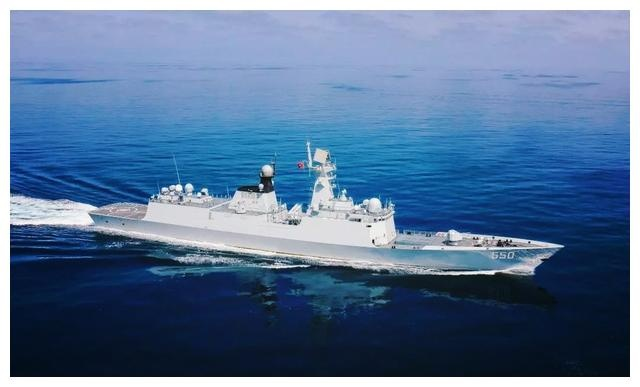warship: (85, 142, 570, 278)
